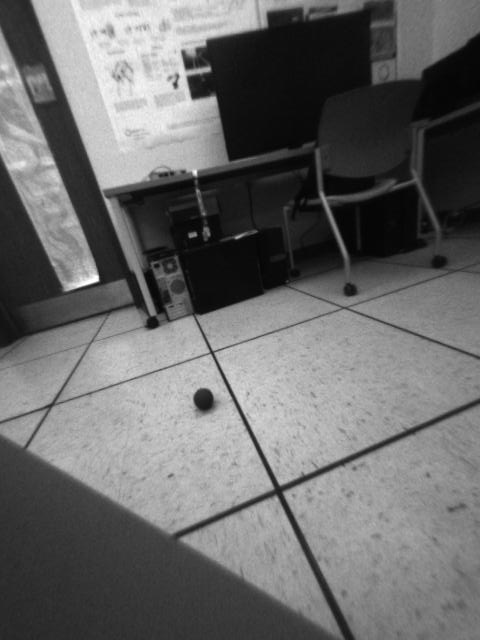dogtoy: (184, 379, 217, 413)
